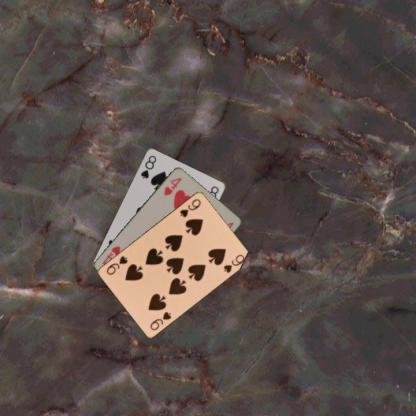4h: (161, 174, 183, 196)
8s: (138, 152, 158, 180)
9s: (148, 309, 172, 332), (178, 196, 202, 218)
